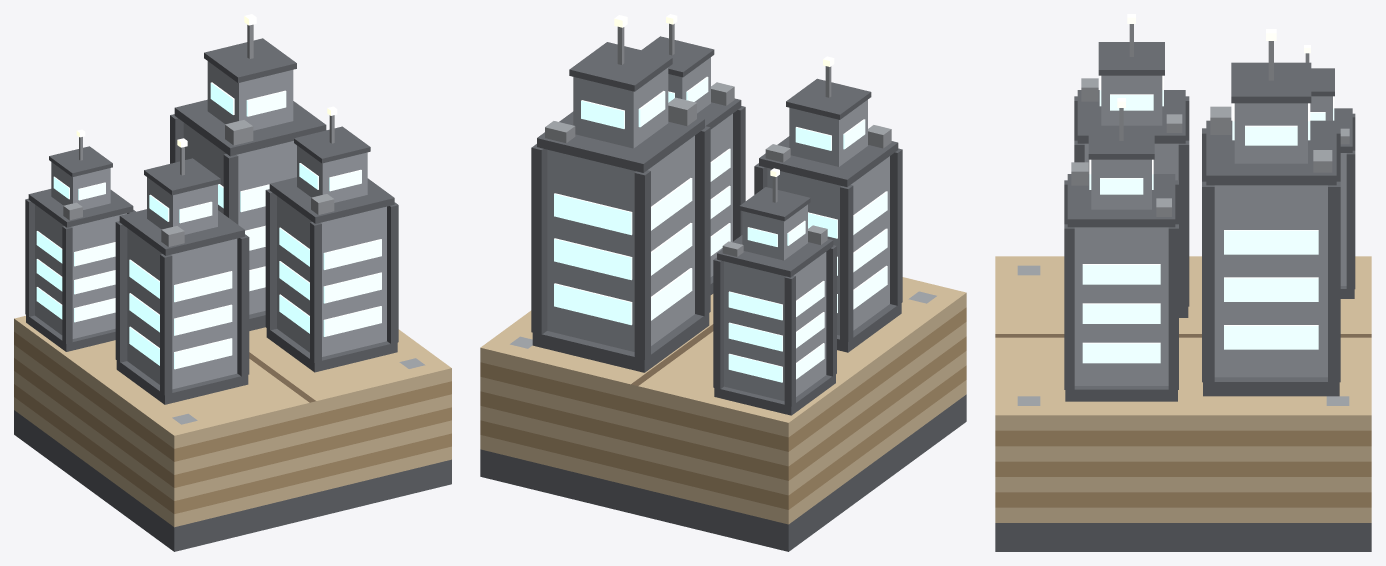
Rendered from PlywoodTile_Building4.fbx.
3 renders of one model, left to right at view 1: azimuth 30°, elevation 25°; view 2: azimuth 150°, elevation 25°; view 3: azimuth 270°, elevation 25°, orthographic. The views are drawn at different scales.
Parts seen in each view (by area): view 1: PlywoodTile_Building4; view 2: PlywoodTile_Building4; view 3: PlywoodTile_Building4.
Part boxes in pixels (x1=…): PlywoodTile_Building4: x1=14, y1=14, x2=451, y2=551; PlywoodTile_Building4: x1=480, y1=14, x2=966, y2=551; PlywoodTile_Building4: x1=995, y1=14, x2=1371, y2=551.
Bounding box in the file's own units: 1 × 1.38 × 1.
